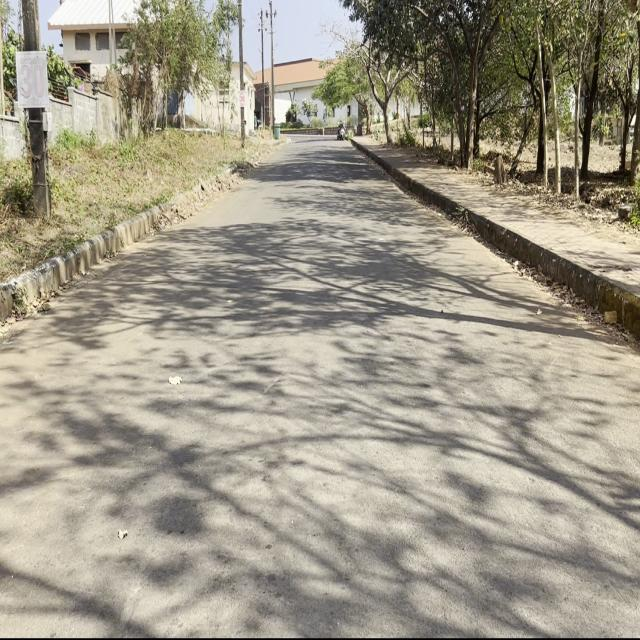Road: (3, 139, 637, 631)
